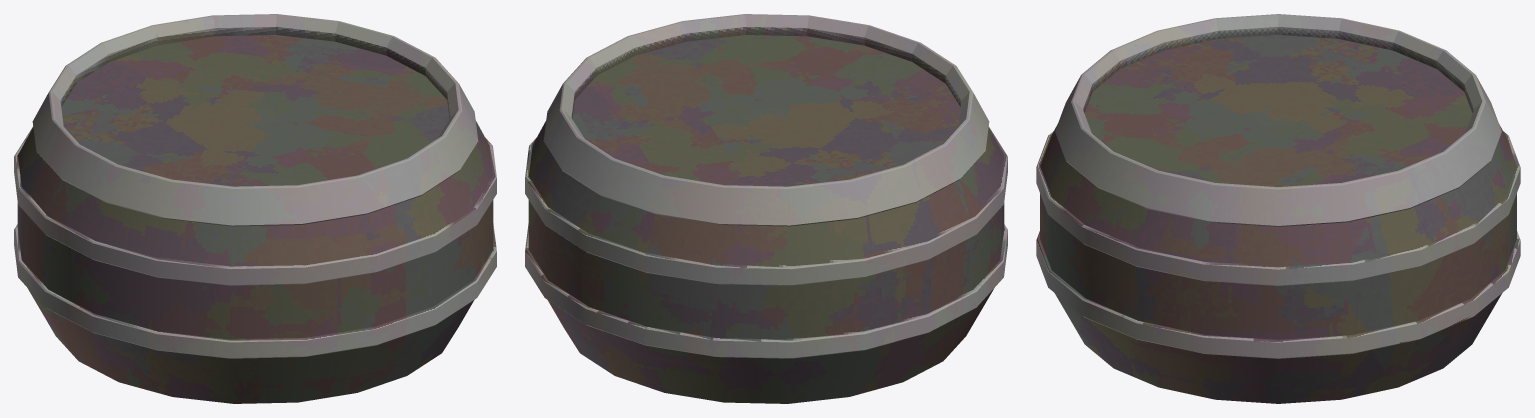
The model's file is Barrel_Table.glb.
3 views of the same model, side by side, from view 1: azimuth 30°, elevation 25°; view 2: azimuth 150°, elevation 25°; view 3: azimuth 270°, elevation 25° (orthographic).
Parts seen in each view (by area): view 1: barrel_table; view 2: barrel_table; view 3: barrel_table.
Boxes of the visible parts, box(x1,y1,x2,y2) form: barrel_table: box(14, 14, 496, 403); barrel_table: box(525, 14, 1007, 403); barrel_table: box(1036, 14, 1520, 403).
Size of the model in its own units: 2.8 by 1.38 by 2.8.
1 material, 1 textured.
